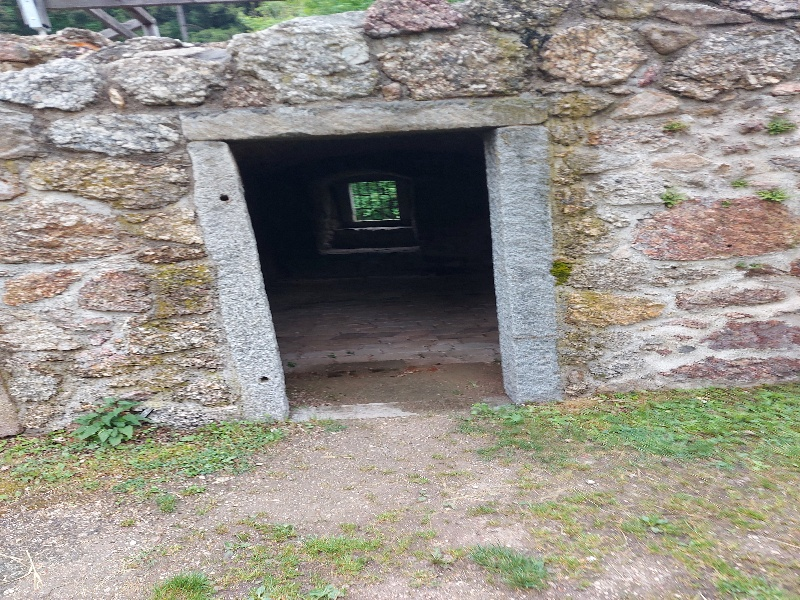door2: (159, 91, 575, 426)
